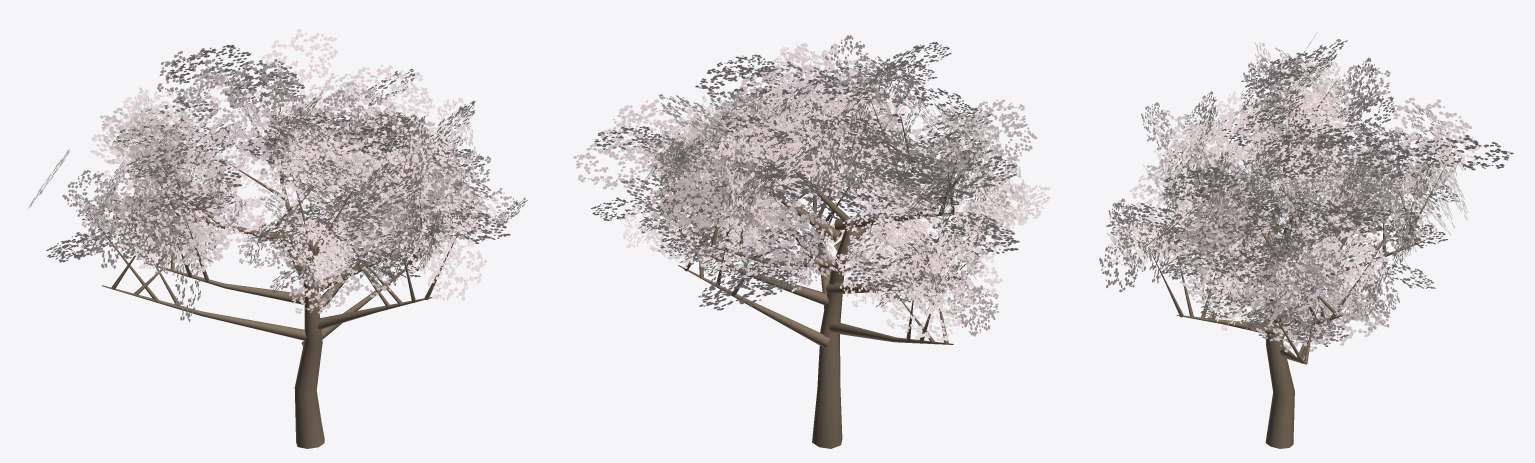
Rendered from sakura-61-high.glb.
3 views of the same model, side by side, from view 1: azimuth 30°, elevation 25°; view 2: azimuth 150°, elevation 25°; view 3: azimuth 270°, elevation 25° (orthographic). The views are drawn at different scales.
Parts seen in each view (by area): view 1: LeafCards, Wood; view 2: LeafCards, Wood; view 3: LeafCards, Wood.
Part boxes in pixels (x1,y1,x2,y2): LeafCards: [27, 29, 527, 321]; Wood: [90, 79, 458, 448]; LeafCards: [573, 35, 1049, 341]; Wood: [659, 97, 983, 448]; LeafCards: [1099, 33, 1513, 352]; Wood: [1152, 82, 1445, 448].
Size of the model in its own units: 9.85 by 8.35 by 9.2.
Materials: 2 (1 with a texture image).
